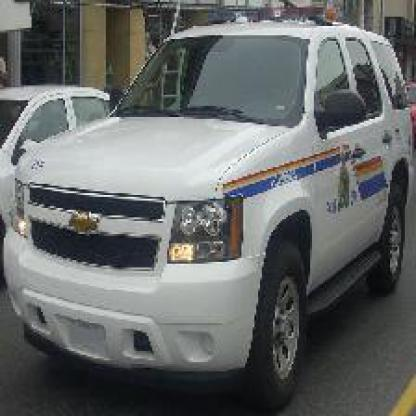emergency: (11, 11, 407, 394)
